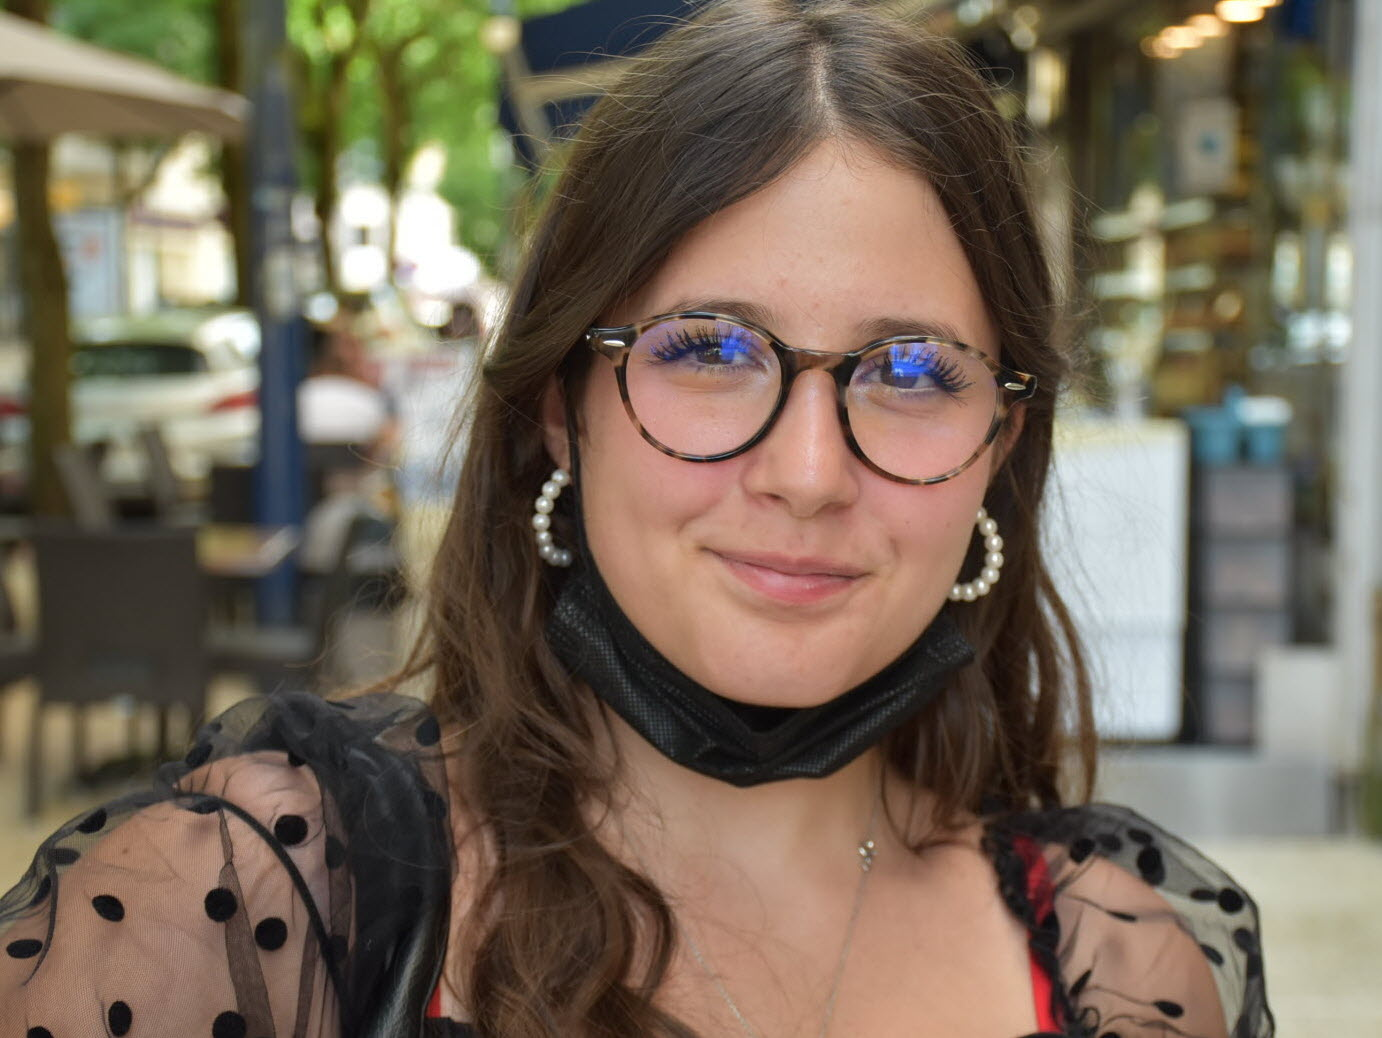with_incorrect_mask: (601, 260, 995, 763)
